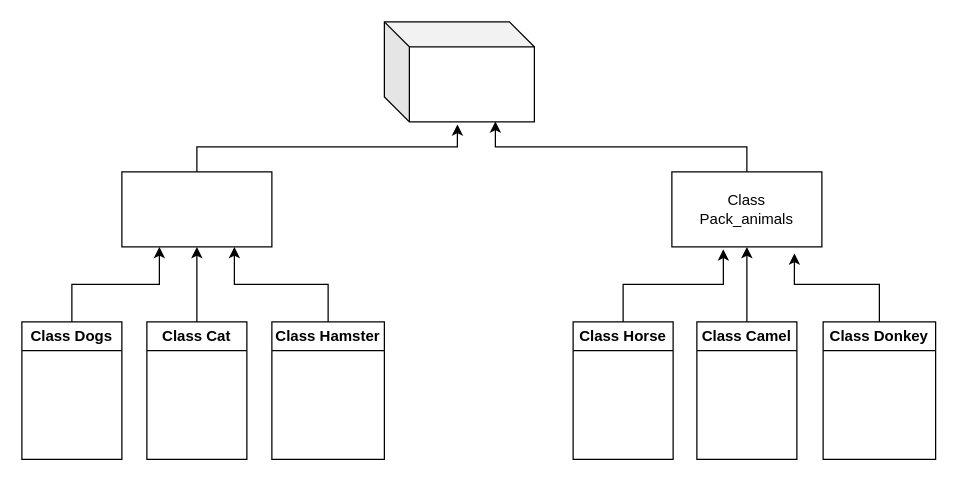
Image size: 958x481. Some labels were removed from this diagram. The shapes that lost their labels are listed below. From the top down, each one's box as (x1, y1, x2, y2) in pixels, then its label:
(383, 21, 534, 122): Class Animals
(121, 171, 272, 247): Class Home_animals
